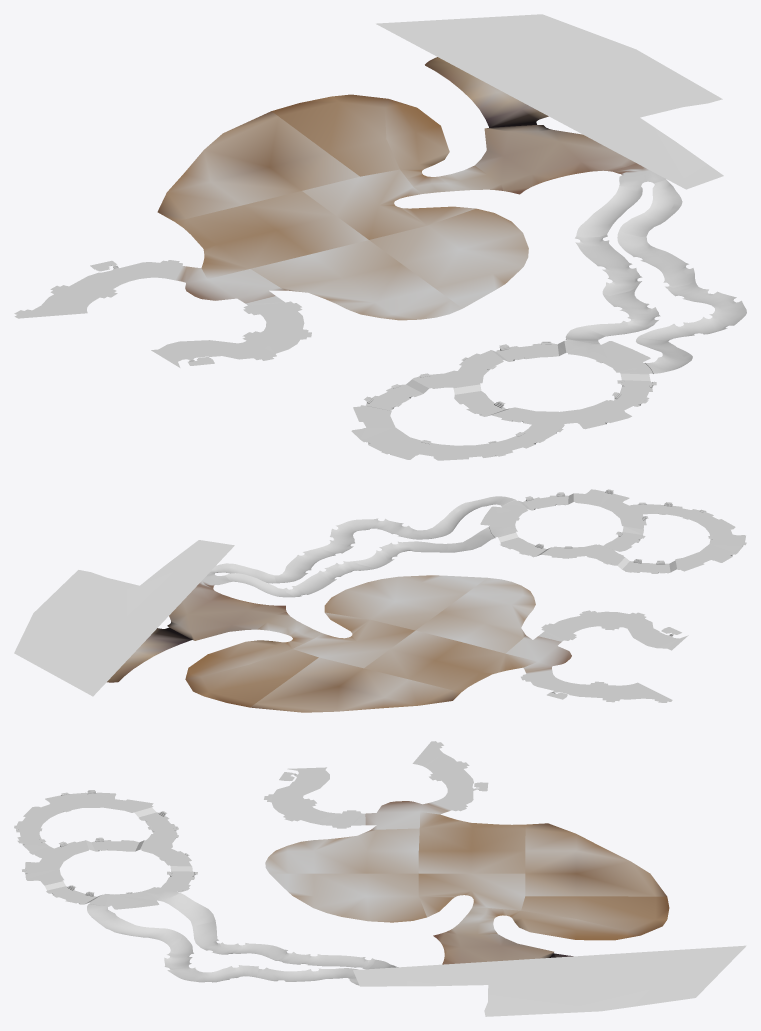
File: col_street_est.max.fbx
3 views of the same model, one above another, from view 1: azimuth 30°, elevation 25°; view 2: azimuth 150°, elevation 25°; view 3: azimuth 270°, elevation 25° (orthographic). The views are drawn at different scales.
Parts seen in each view (by area): view 1: patate666, col65, col66, col68, col69, col2, col64, col67, col72, col, col71, col1 (+18 smaller); view 2: patate666, col65, col66, col68, col69, col2, col64, col67, col72, col, col71, col18 (+18 smaller); view 3: patate666, col65, col68, col66, col69, col64, col67, col2, col72, col, col71, col18 (+15 smaller).
Part boxes in pixels (left/top/right/bottom): patate666: left=376, top=14, right=723, bottom=189; col65: left=157, top=111, right=359, bottom=221; col66: left=175, top=191, right=368, bottom=279; col68: left=369, top=208, right=528, bottom=308; col69: left=250, top=240, right=462, bottom=320; col2: left=475, top=125, right=635, bottom=194; col64: left=271, top=94, right=399, bottom=176; col67: left=302, top=169, right=475, bottom=239; col72: left=14, top=260, right=182, bottom=318; col: left=385, top=99, right=449, bottom=170; col71: left=238, top=296, right=311, bottom=360; col1: left=425, top=57, right=548, bottom=127; patate666: left=14, top=540, right=234, bottom=696; col65: left=250, top=657, right=460, bottom=712; col66: left=364, top=630, right=537, bottom=692; col68: left=324, top=575, right=486, bottom=630; col69: left=416, top=577, right=535, bottom=653; col2: left=167, top=586, right=286, bottom=640; col64: left=185, top=649, right=318, bottom=707; col67: left=293, top=612, right=415, bottom=668; col72: left=521, top=670, right=672, bottom=702; col: left=185, top=640, right=291, bottom=679; col71: left=538, top=610, right=651, bottom=641; col18: left=683, top=519, right=746, bottom=571; patate666: left=353, top=945, right=746, bottom=1016; col65: left=525, top=823, right=666, bottom=896; col68: left=270, top=873, right=426, bottom=922; col66: left=418, top=812, right=525, bottom=873; col69: left=265, top=828, right=419, bottom=873; col64: left=521, top=896, right=669, bottom=935; col67: left=418, top=873, right=525, bottom=917; col2: left=433, top=932, right=553, bottom=964; col72: left=412, top=741, right=488, bottom=811; col: left=510, top=911, right=640, bottom=940; col71: left=264, top=789, right=365, bottom=828; col18: left=23, top=790, right=152, bottom=823.
Size of the model in its own units: 252 by 12.02 by 272.
